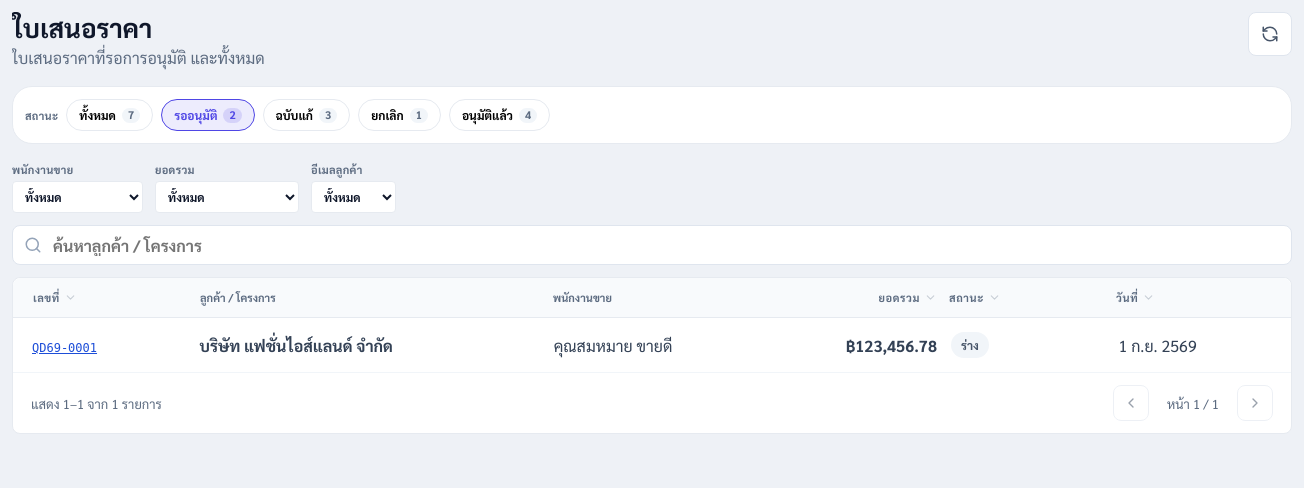
Scenario: QuotationListPage › lets an approver actually reach ทั้งหมด, writing status=all to the URL
expect the text "QD69-0001" is shown: met, box [32,341,97,355]
Click the tab "ทั้งหมด 7" at [110, 115], box [66,99,153,131]
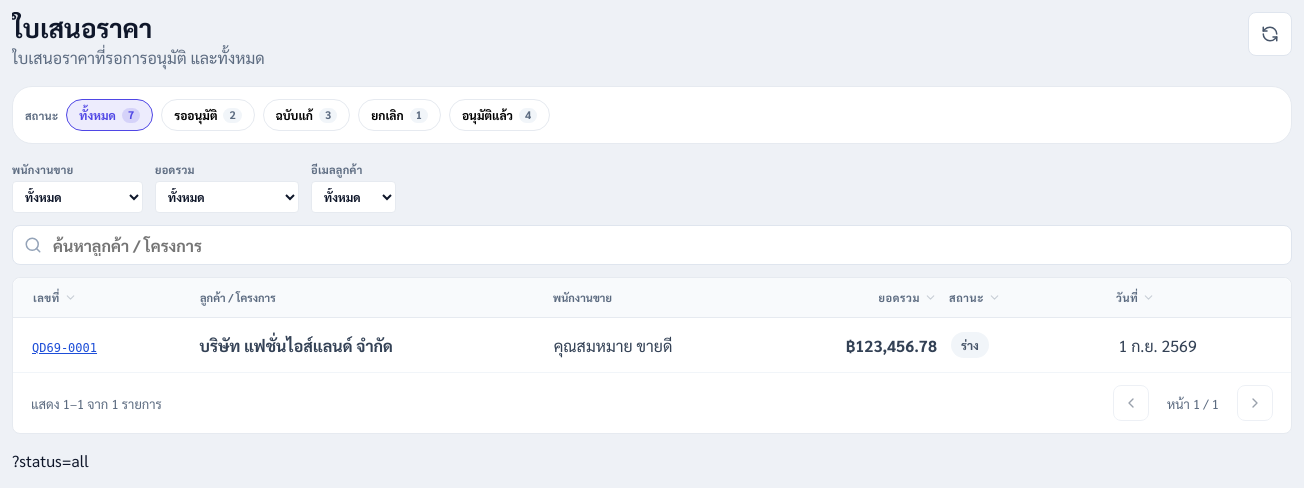
expect the text with test id "location-search" reads "?status=all": met, box [12,450,89,471]
